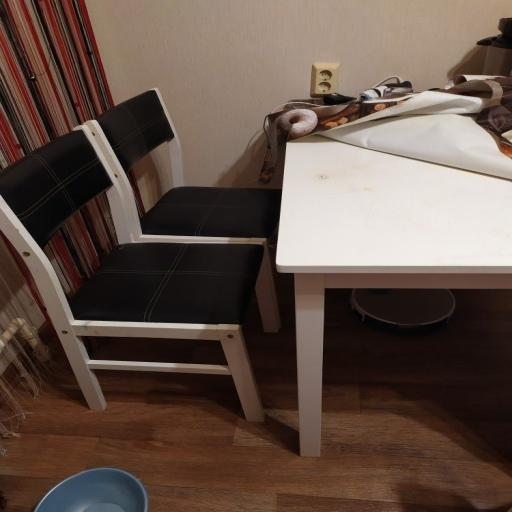bottle: (0, 127, 264, 421), (64, 89, 296, 335)
phone: (276, 93, 512, 457)
